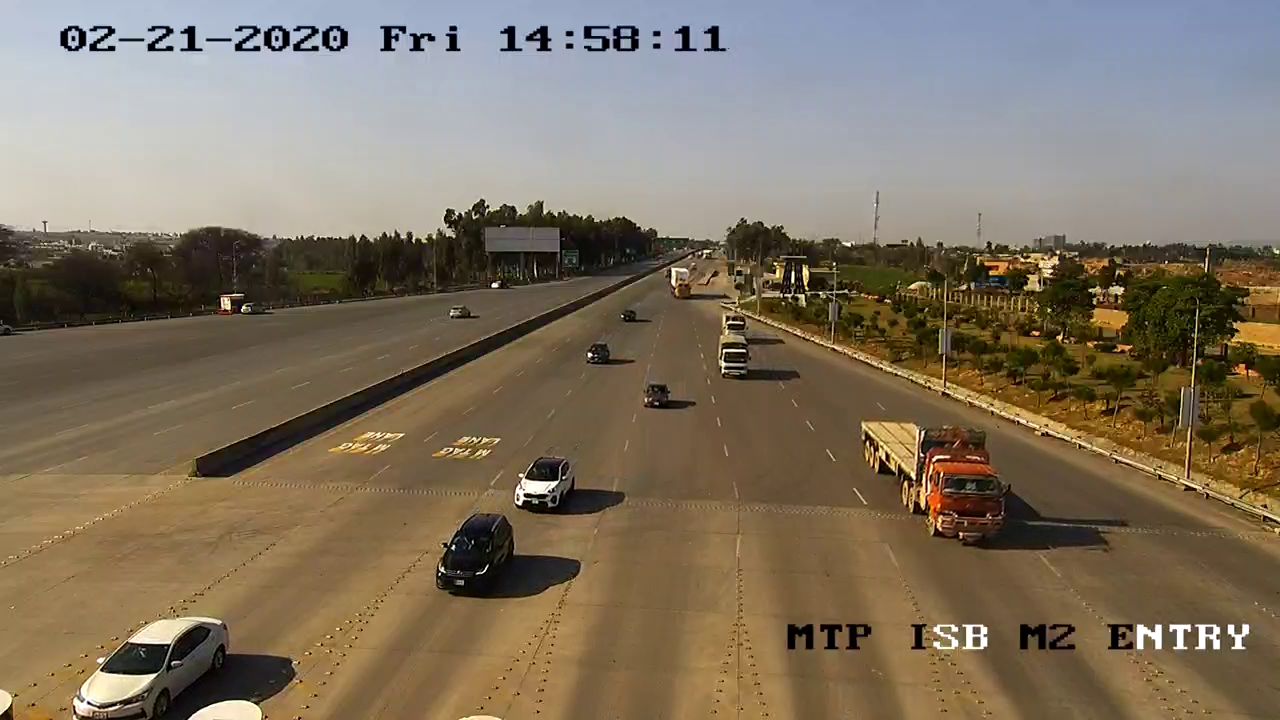f1: (59, 597, 237, 720), (428, 500, 526, 603), (505, 446, 586, 523), (639, 375, 677, 417)
f6: (849, 395, 1025, 552)
